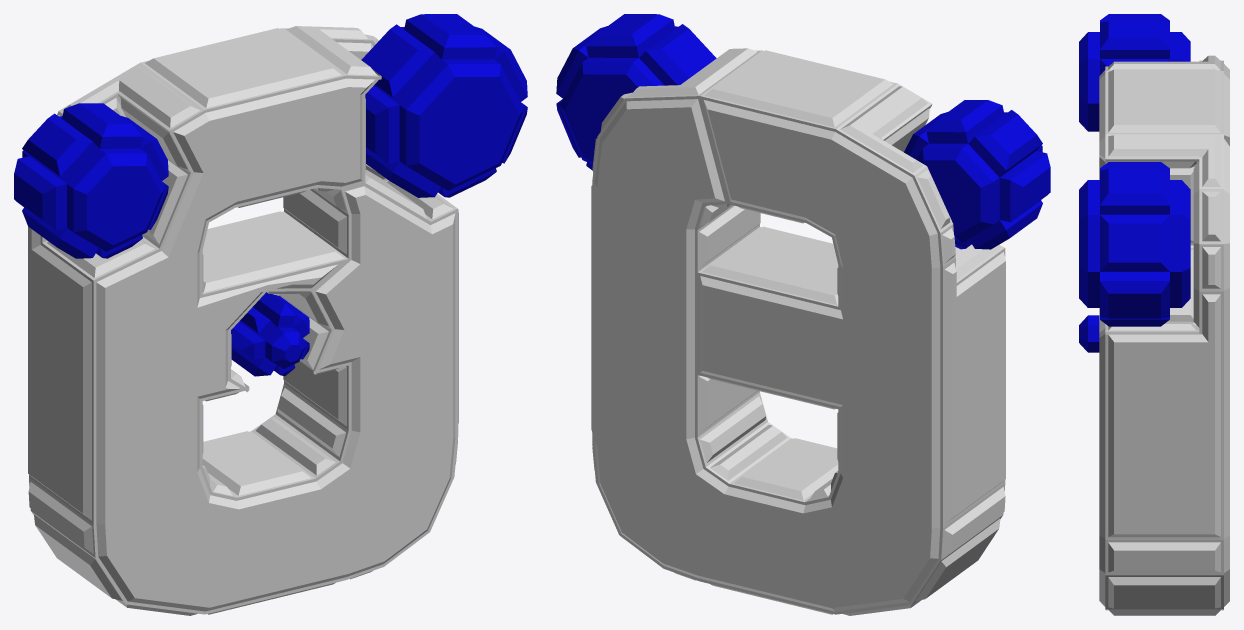
File: Ch_China_日_01.fbx
3 renders of one model, left to right at view 1: azimuth 30°, elevation 25°; view 2: azimuth 150°, elevation 25°; view 3: azimuth 270°, elevation 25°, orthographic. The views are drawn at different scales.
Visible parts, largest first — view 1: sphere1; view 2: sphere1; view 3: sphere1.
Part boxes in pixels (x1,y1,x2,y2): sphere1: [14, 14, 527, 615]; sphere1: [556, 14, 1050, 615]; sphere1: [1079, 14, 1229, 615].
Size of the model in its own units: 0.8637 by 0.8928 by 0.2541.
